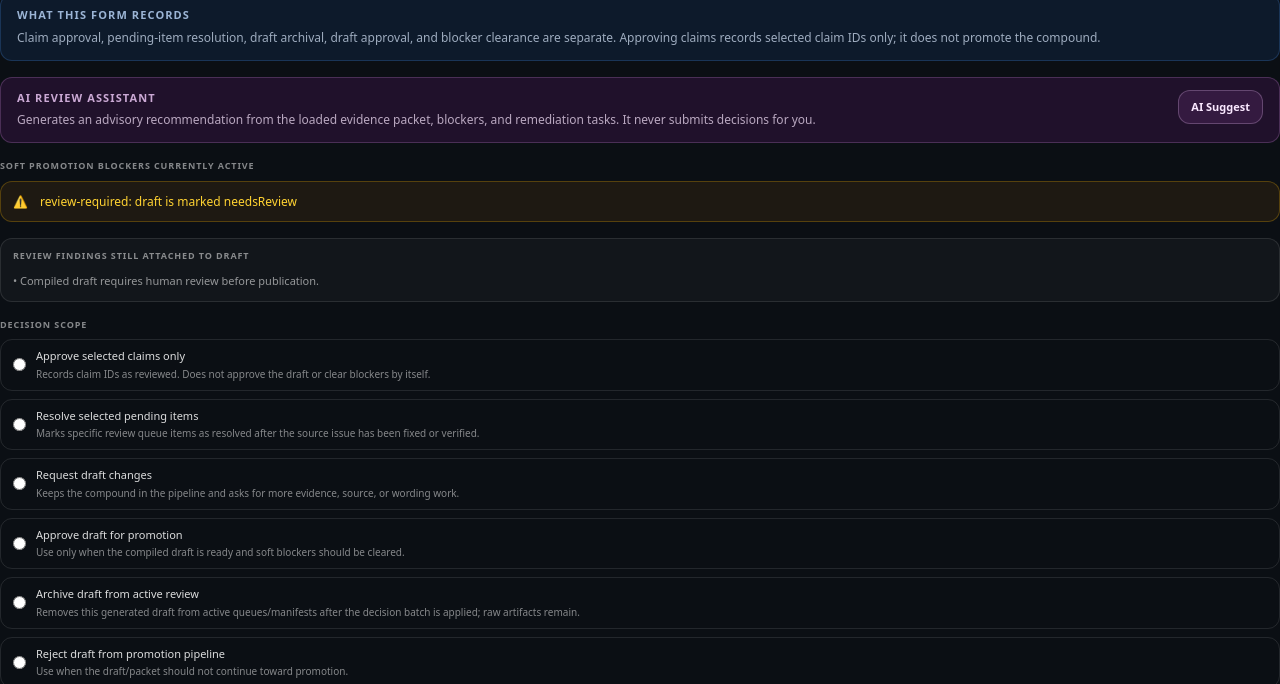
Scenario: ReviewDecisionForm — review-required compound › requires notes when approve-for-promotion selected with soft blockers remaining
What coordinates should you click on to do the following:
click the radio button with aria-label "approve-for-promotion"
I would click on:
 (20, 543)
Its box is [13,537,26,550].
(page scrolled)
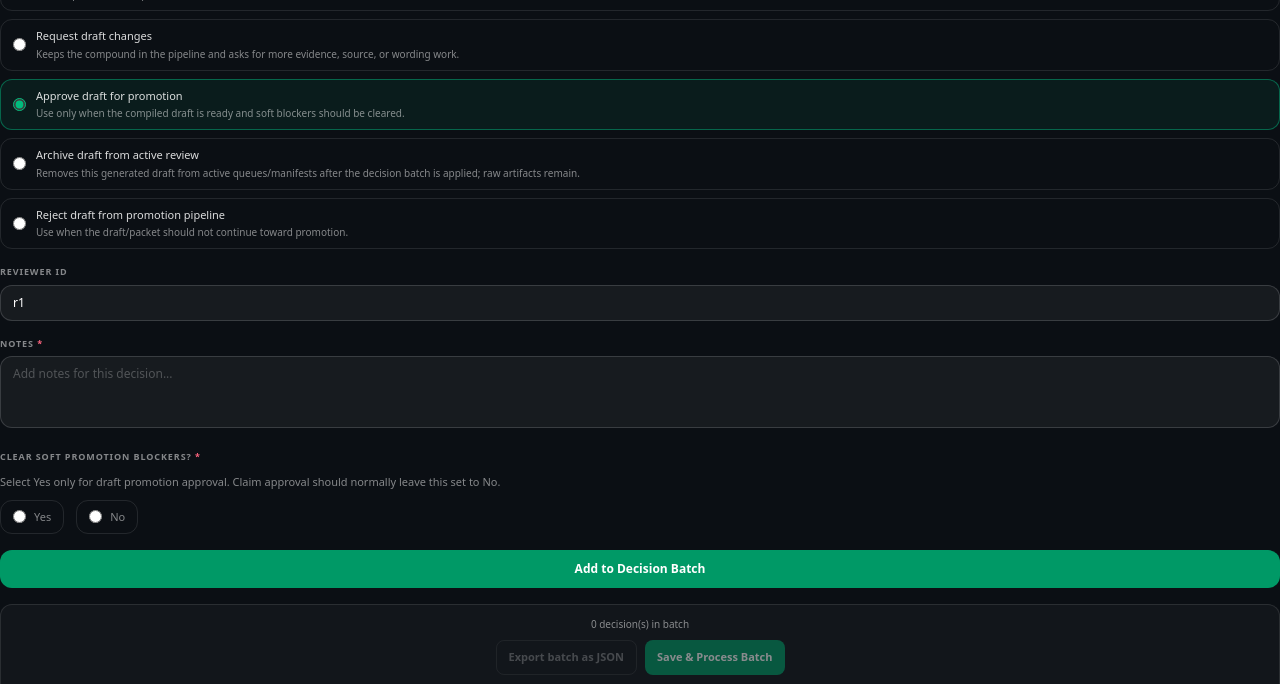
What coordinates should you click on to do the following:
click the button "Add to Decision Batch"
I would click on:
 (640, 569)
Its box is [0,550,1279,588].
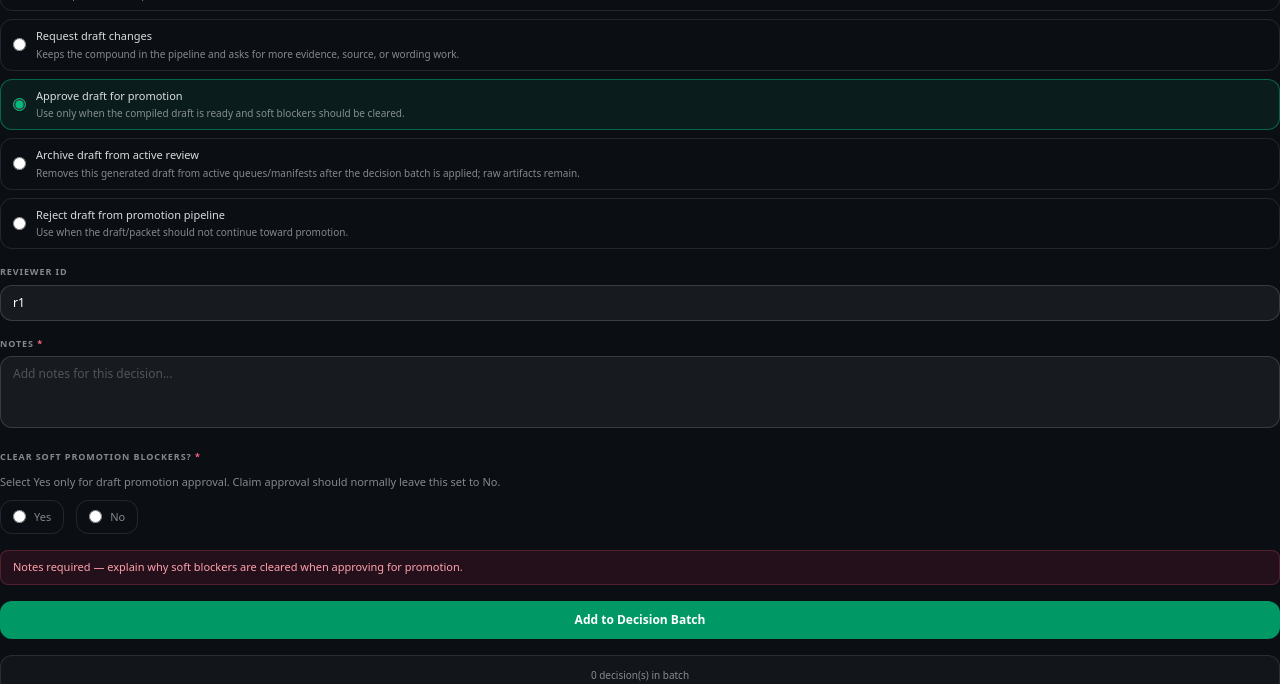
Expected: the text "Notes required" is shown, [13,559,463,574]
